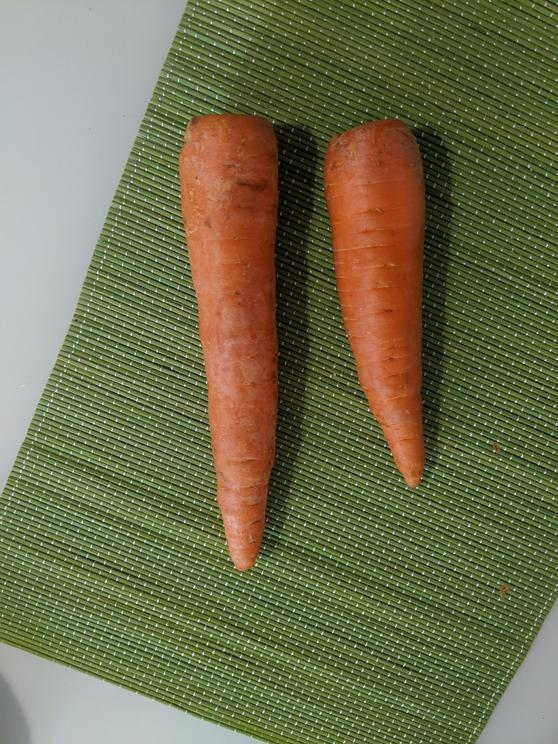carrot: (180, 100, 292, 579), (321, 114, 443, 488)
